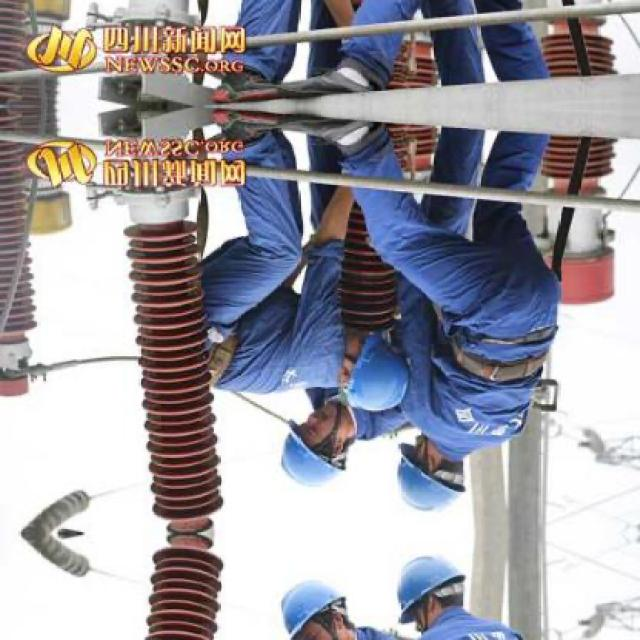con casco: (258, 356, 494, 508)
